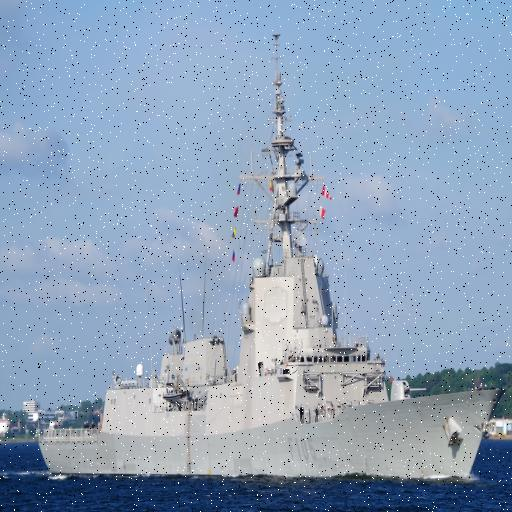Fragata: (28, 23, 512, 486)
